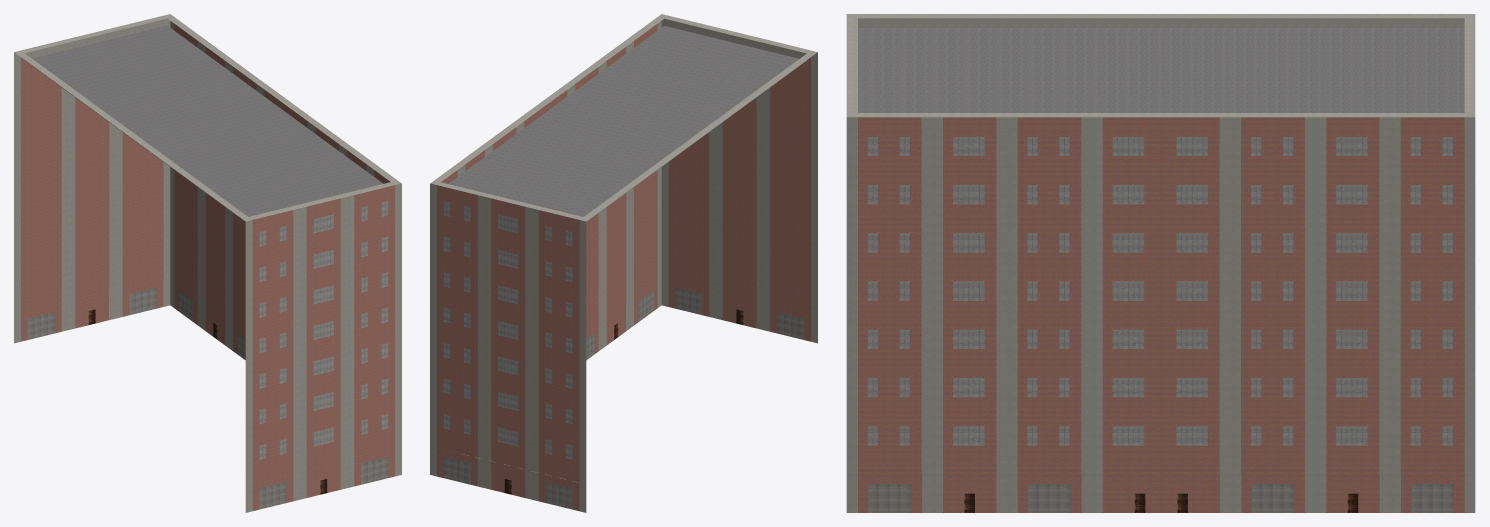
The model's file is LongBuilding1.obj.
The picture shows the model from 3 angles, left to right: view 1: azimuth 30°, elevation 25°; view 2: azimuth 150°, elevation 25°; view 3: azimuth 270°, elevation 25°; orthographic projection. The views are drawn at different scales.
Visible parts, largest first — view 1: Structure_1, Structure_0, Structure_4, Windows, Structure_5, Structure_2; view 2: Structure_1, Structure_0, Structure_4, Windows, Structure_5, Structure_2; view 3: Structure_1, Structure_0, Structure_4, Windows, Structure_5, Structure_2, Structure_3.
Boxes of the visible parts, bbox=[...] form: Structure_1: bbox=[21, 24, 394, 488]; Structure_0: bbox=[14, 14, 401, 512]; Structure_4: bbox=[32, 25, 383, 216]; Windows: bbox=[259, 201, 388, 459]; Structure_5: bbox=[21, 279, 394, 510]; Structure_2: bbox=[27, 287, 388, 509]; Structure_1: bbox=[437, 24, 810, 488]; Structure_0: bbox=[430, 14, 817, 512]; Structure_4: bbox=[448, 26, 799, 216]; Windows: bbox=[443, 201, 572, 459]; Structure_5: bbox=[437, 278, 810, 510]; Structure_2: bbox=[443, 287, 804, 509]; Structure_1: bbox=[858, 117, 1464, 493]; Structure_0: bbox=[846, 14, 1475, 512]; Structure_4: bbox=[858, 28, 1464, 112]; Windows: bbox=[867, 137, 1452, 445]; Structure_5: bbox=[858, 474, 1464, 512]; Structure_2: bbox=[868, 484, 1453, 512]; Structure_3: bbox=[964, 493, 1358, 512].
Size of the model in its own units: 23.01 by 41 by 59.11.
6 materials, 6 textured.
